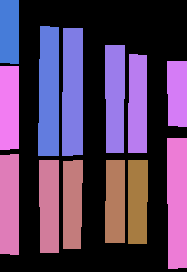parkingspot: (167, 138, 187, 268), (38, 26, 58, 155), (62, 28, 82, 155), (105, 45, 124, 152), (0, 154, 18, 254), (128, 54, 146, 152), (39, 160, 58, 252), (63, 160, 82, 248), (128, 160, 147, 243), (105, 160, 124, 242), (0, 66, 18, 149), (167, 61, 186, 126), (0, 0, 18, 63)
